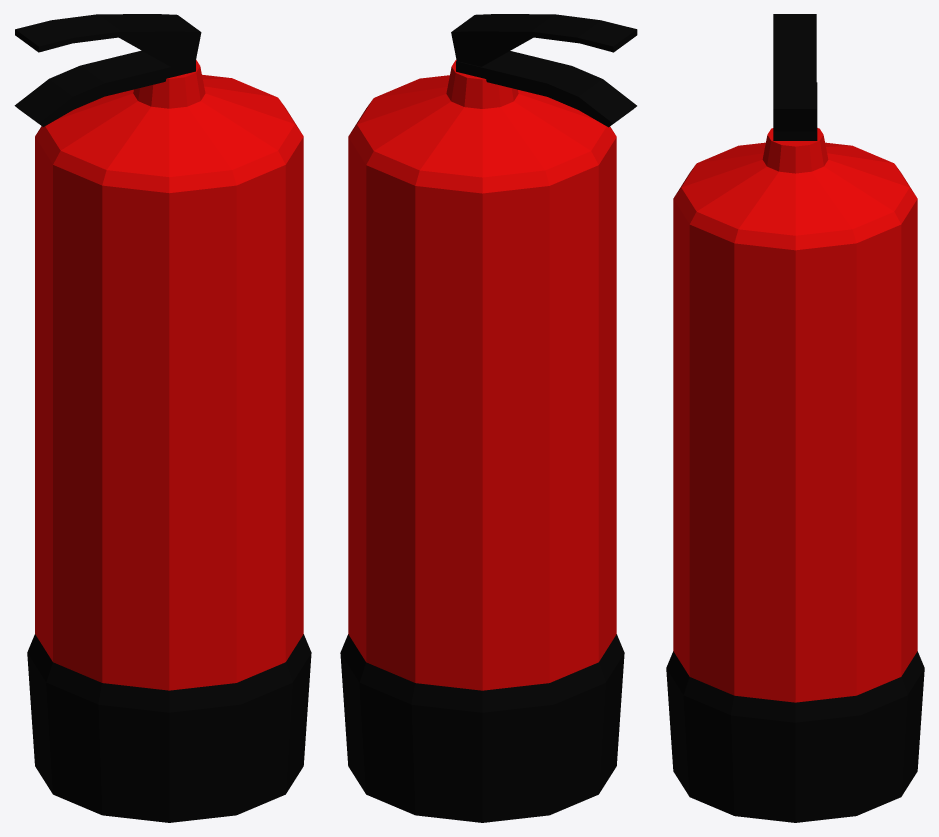
File: FireExtinguisher.fbx
3 renders of one model, left to right at view 1: azimuth 30°, elevation 25°; view 2: azimuth 150°, elevation 25°; view 3: azimuth 270°, elevation 25°, orthographic. The views are drawn at different scales.
Visible parts, largest first — view 1: Cylinder001; view 2: Cylinder001; view 3: Cylinder001.
Boxes of the visible parts, x1,y1,x2,y2 form: Cylinder001: (14,14,311,822); Cylinder001: (340,14,637,822); Cylinder001: (666,14,924,822).
Bounding box in the file's own units: 20.57 × 56.42 × 19.04.
